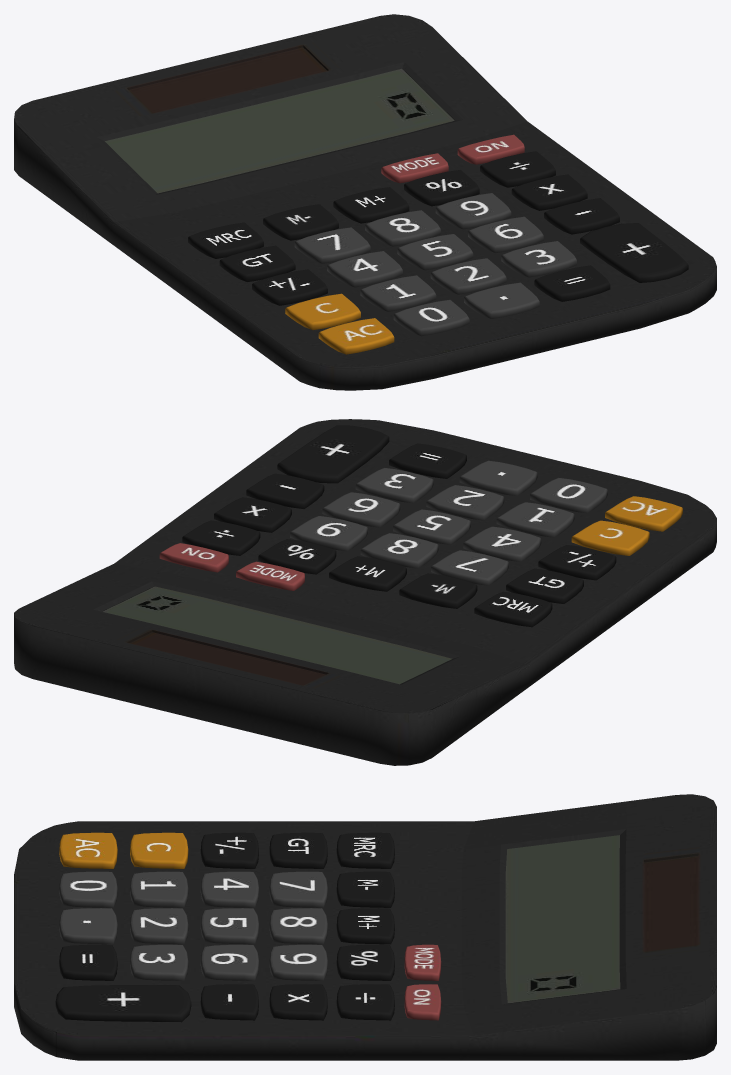
The model's file is calculator.glb.
3 views of the same model, one above another, from view 1: azimuth 30°, elevation 25°; view 2: azimuth 150°, elevation 25°; view 3: azimuth 270°, elevation 25° (orthographic). The views are drawn at different scales.
Visible parts, largest first — view 1: Calculadora; view 2: Calculadora; view 3: Calculadora.
Boxes of the visible parts, x1=… form: Calculadora: x1=14, y1=14, x2=716, y2=390; Calculadora: x1=14, y1=419, x2=716, y2=765; Calculadora: x1=14, y1=794, x2=716, y2=1060.
Size of the model in its own units: 6 by 0.7399 by 8.32.
Materials: 1 (1 with a texture image).
